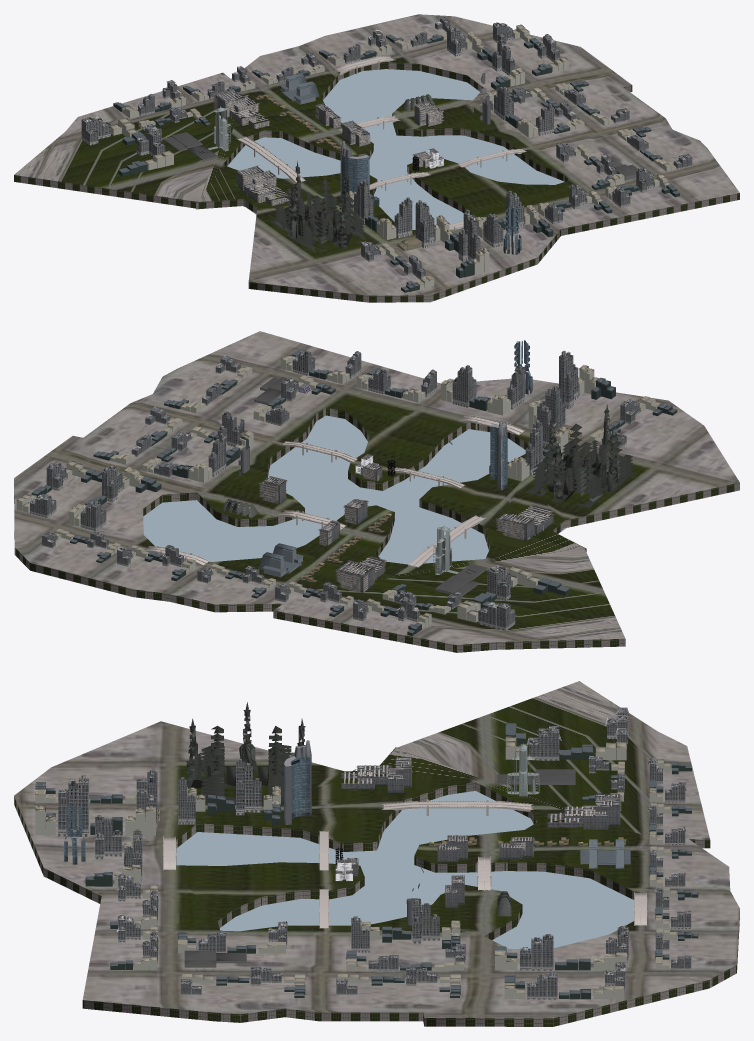
File: city-map-free.glb
3 views of the same model, one above another, from view 1: azimuth 30°, elevation 25°; view 2: azimuth 150°, elevation 25°; view 3: azimuth 270°, elevation 25° (orthographic). The views are drawn at different scales.
Visible parts, largest first — view 1: PS3_Material_02, PS3_Material_00, PS3_Material_03, PS3_Material_04, PS3_Material_20, PS3_Material_18, PS3_Material_07, PS3_Material_01, PS3_Material_10, PS3_Material_15, PS3_Material_11, PS3_Material_13 (+2 smaller); view 2: PS3_Material_02, PS3_Material_00, PS3_Material_03, PS3_Material_04, PS3_Material_20, PS3_Material_18, PS3_Material_07, PS3_Material_01, PS3_Material_10, PS3_Material_11, PS3_Material_15, PS3_Material_13 (+3 smaller); view 3: PS3_Material_02, PS3_Material_00, PS3_Material_03, PS3_Material_04, PS3_Material_20, PS3_Material_07, PS3_Material_18, PS3_Material_10, PS3_Material_15, PS3_Material_11, PS3_Material_01, PS3_Material_24 (+2 smaller).
Boxes of the visible parts, x1=… form: PS3_Material_02: x1=14, y1=14, x2=739, y2=302; PS3_Material_00: x1=227, y1=69, x2=563, y2=229; PS3_Material_03: x1=81, y1=16, x2=692, y2=279; PS3_Material_04: x1=111, y1=24, x2=676, y2=289; PS3_Material_20: x1=113, y1=34, x2=679, y2=292; PS3_Material_18: x1=269, y1=161, x2=365, y2=252; PS3_Material_07: x1=215, y1=90, x2=442, y2=205; PS3_Material_01: x1=213, y1=89, x2=443, y2=205; PS3_Material_10: x1=236, y1=56, x2=526, y2=230; PS3_Material_15: x1=340, y1=154, x2=521, y2=254; PS3_Material_11: x1=163, y1=132, x2=637, y2=180; PS3_Material_13: x1=280, y1=73, x2=319, y2=104; PS3_Material_02: x1=14, y1=331, x2=739, y2=652; PS3_Material_00: x1=143, y1=415, x2=565, y2=564; PS3_Material_03: x1=28, y1=350, x2=639, y2=630; PS3_Material_04: x1=16, y1=355, x2=660, y2=628; PS3_Material_20: x1=31, y1=349, x2=677, y2=635; PS3_Material_18: x1=525, y1=404, x2=634, y2=507; PS3_Material_07: x1=260, y1=464, x2=552, y2=592; PS3_Material_01: x1=259, y1=463, x2=554, y2=592; PS3_Material_10: x1=144, y1=416, x2=525, y2=567; PS3_Material_11: x1=254, y1=377, x2=487, y2=596; PS3_Material_15: x1=490, y1=340, x2=532, y2=490; PS3_Material_13: x1=258, y1=543, x2=303, y2=577; PS3_Material_02: x1=14, y1=681, x2=739, y2=1026; PS3_Material_00: x1=176, y1=791, x2=634, y2=948; PS3_Material_03: x1=57, y1=707, x2=692, y2=999; PS3_Material_04: x1=35, y1=736, x2=676, y2=999; PS3_Material_20: x1=35, y1=723, x2=698, y2=999; PS3_Material_07: x1=341, y1=757, x2=620, y2=908; PS3_Material_18: x1=185, y1=702, x2=305, y2=802; PS3_Material_10: x1=163, y1=799, x2=647, y2=928; PS3_Material_15: x1=64, y1=757, x2=310, y2=864; PS3_Material_11: x1=184, y1=769, x2=575, y2=967; PS3_Material_01: x1=344, y1=756, x2=621, y2=893; PS3_Material_24: x1=284, y1=740, x2=423, y2=925.
Size of the model in its own units: 411 by 46.9 by 374.
25 materials, 22 textured.
